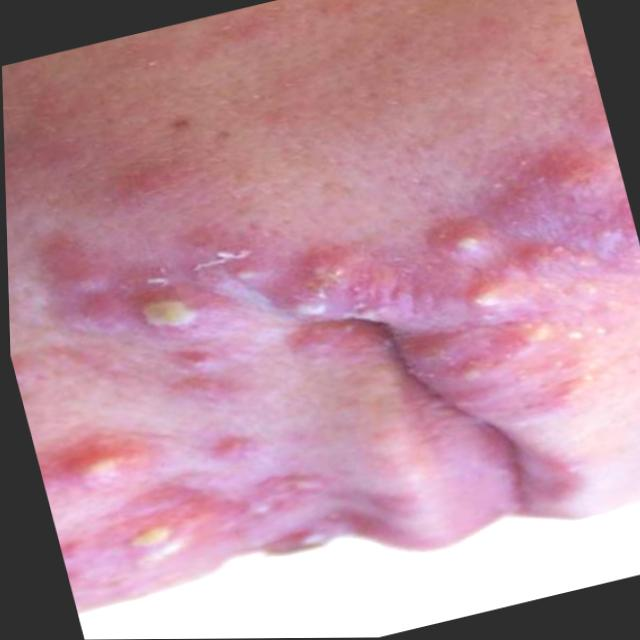pustule: (362, 205, 611, 385), (47, 427, 203, 626), (72, 270, 256, 362)
